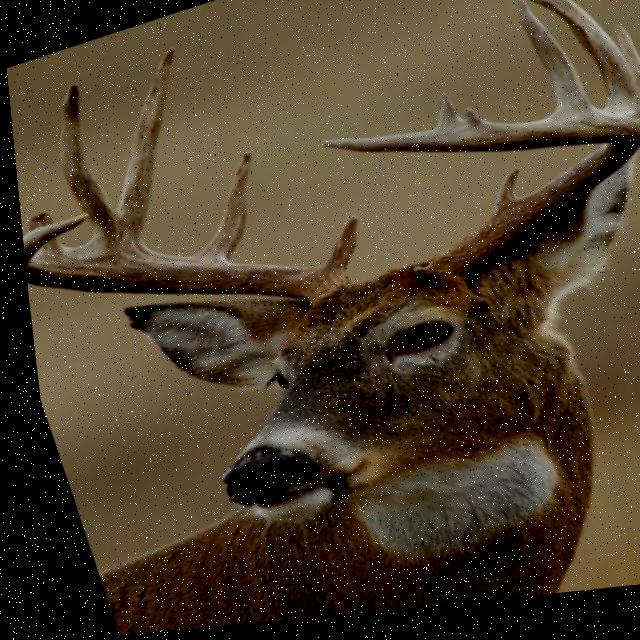E1: (461, 115, 481, 131)
L-E1: (432, 99, 458, 135)
L-F: (18, 214, 347, 310)
L-G1: (320, 219, 355, 278)
L-G2: (188, 154, 249, 265)
L-G3: (113, 48, 172, 241)
L-G4: (56, 83, 112, 239)
R-F: (319, 116, 640, 287)
R-G1: (486, 177, 522, 225)
R-G3: (510, 0, 640, 133)
R-G4: (516, 8, 589, 124)
